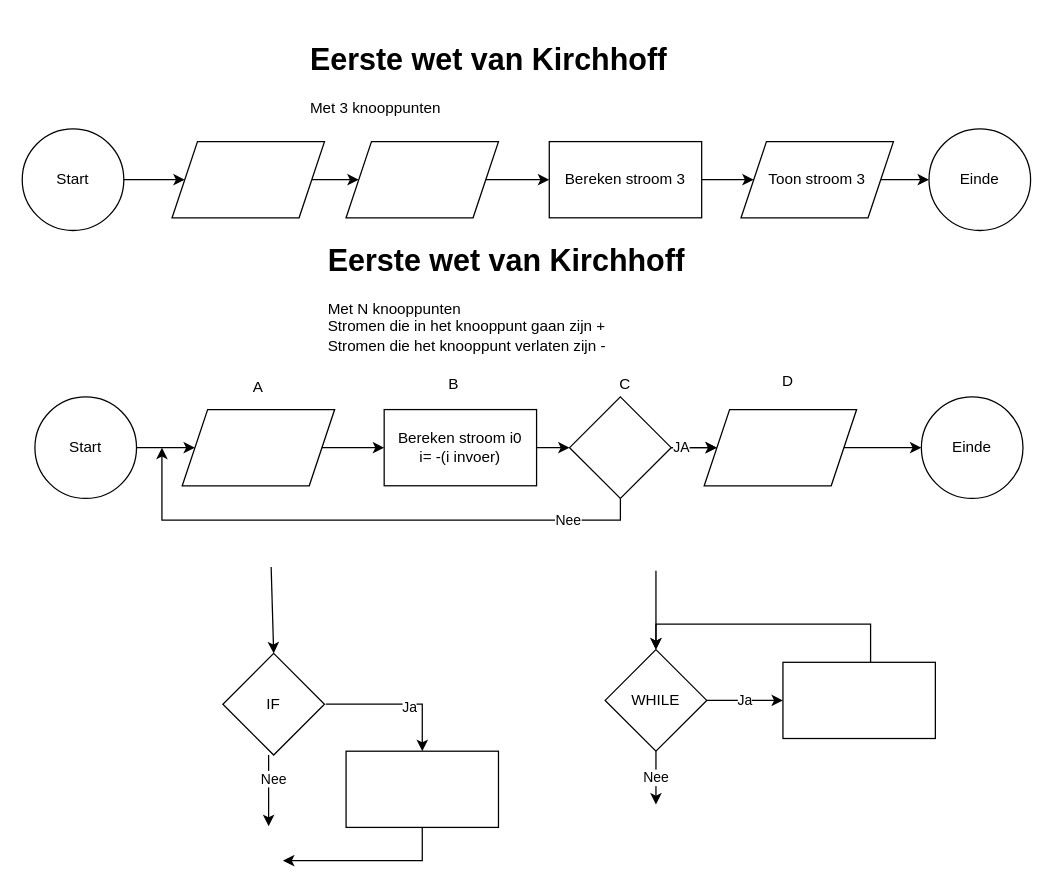
Some shapes in this 1053 by 893 pixel diagram are drawn without their labels. The centre of each missing label's shape, as x and y in pixels:
Geef stroom + in - = uit: pixel 258 447
Geef stroom 1: pixel 247 179
Geef stroom 2: pixel 421 179
stroom invoer == 0: pixel 619 447
Toon stroom i0: pixel 780 447
